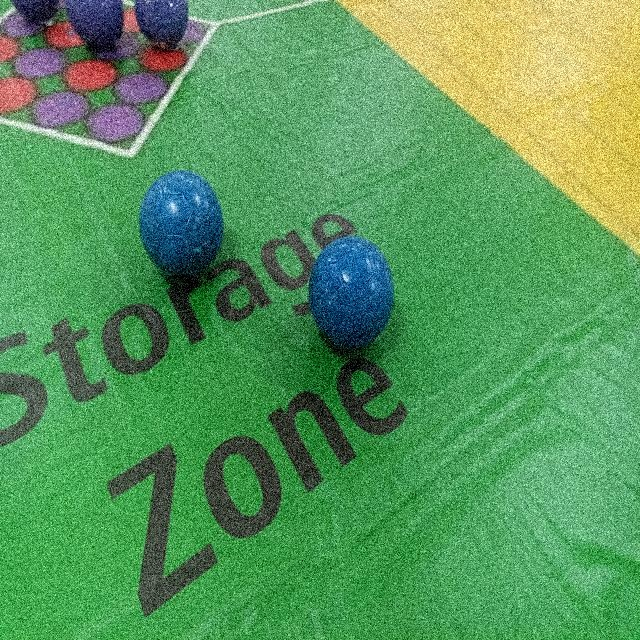blue_ball: (306, 229, 396, 355), (136, 168, 223, 284)
purple_ball: (135, 0, 194, 56), (65, 0, 125, 52), (10, 0, 57, 28)
